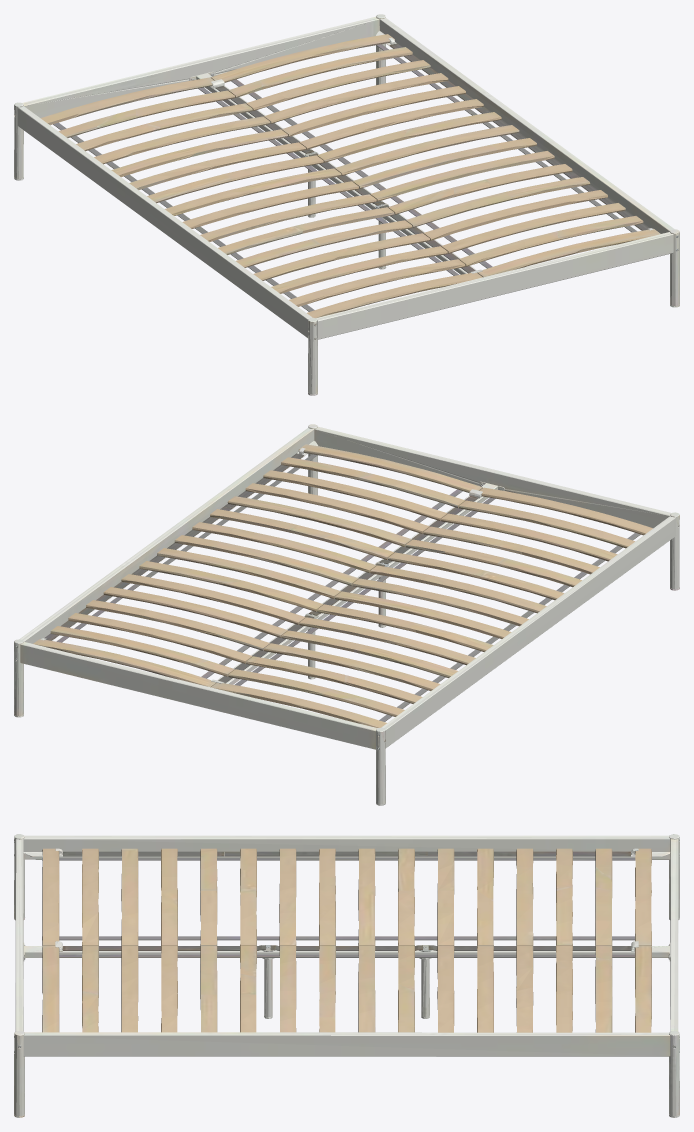
3 views of the same model, one above another, from view 1: azimuth 30°, elevation 25°; view 2: azimuth 150°, elevation 25°; view 3: azimuth 270°, elevation 25° (orthographic). The views are drawn at different scales.
Parts seen in each view (by area): view 1: model; view 2: model; view 3: model.
Boxes of the visible parts, x1,y1,x2,y2 form: model: [14, 14, 679, 395]; model: [14, 424, 679, 805]; model: [14, 834, 679, 1117].
Size of the model in its own units: 1.41 by 0.2701 by 1.97.
Materials: 1 (1 with a texture image).
